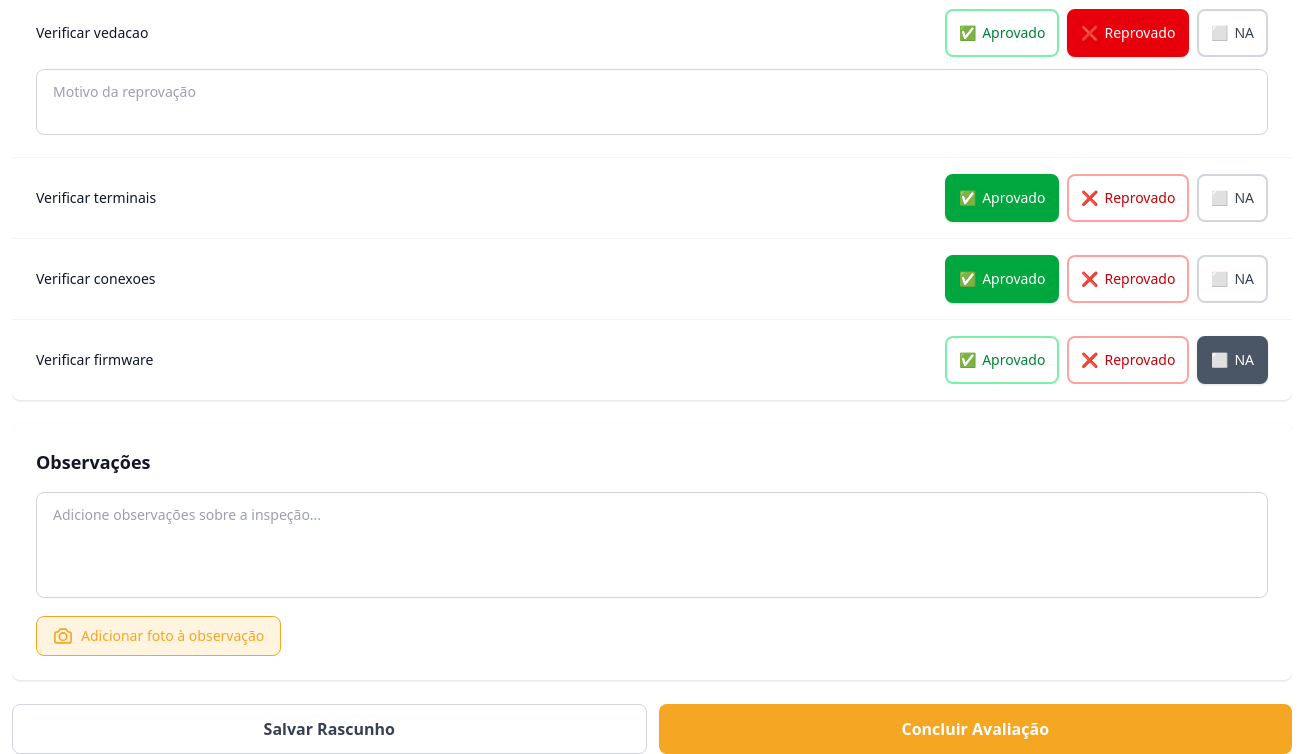
ChecklistForm - Checklist Validation (US-306) › blocks submission when rejected items have missing rejection reasons
(page scrolled)
Click the button "Concluir Avaliação": x=975, y=729 [658,704,1292,753]
(page scrolled)
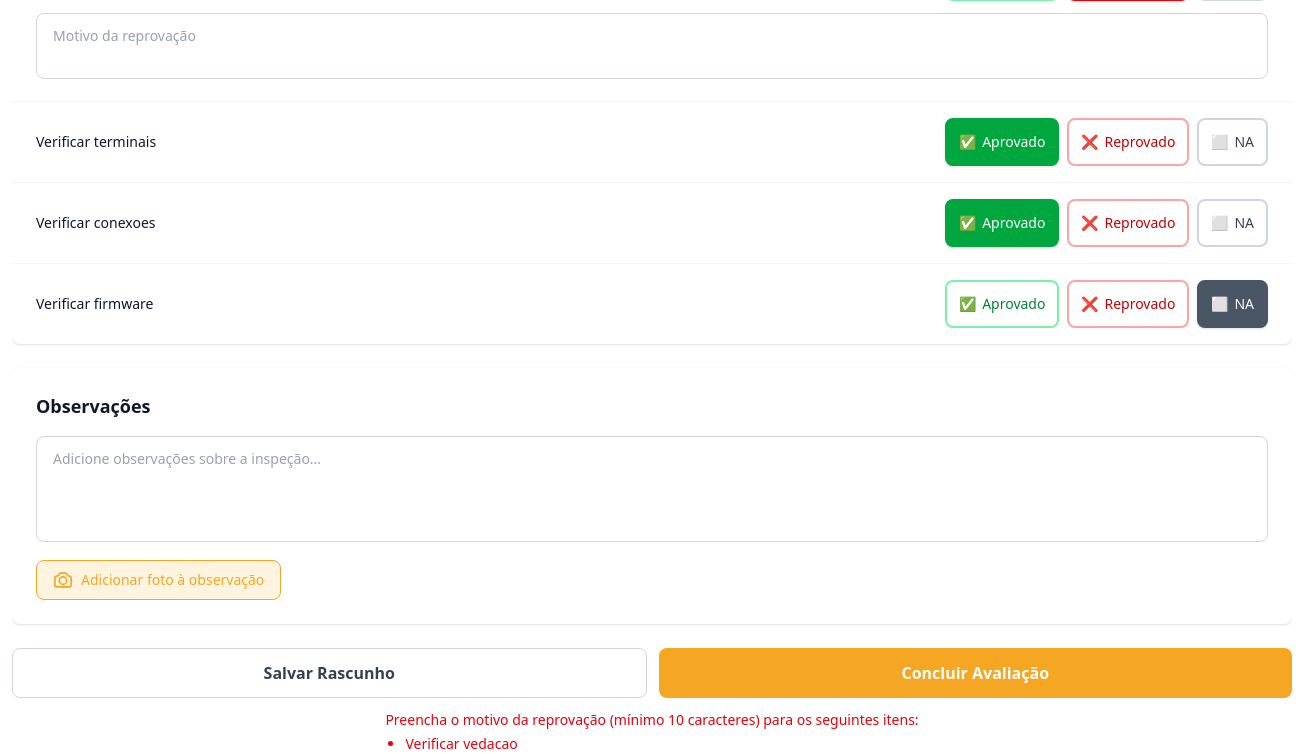
Now the message with test id "validation-error" is shown, box [385,710,919,753]
Now the message with test id "validation-error" shows "Preencha o motivo da reprovação (mínimo 10 caracteres) para os seguintes itens:", box [385,710,919,729]
Now the message with test id "validation-error" shows "Verificar vedacao", box [405,734,518,753]
